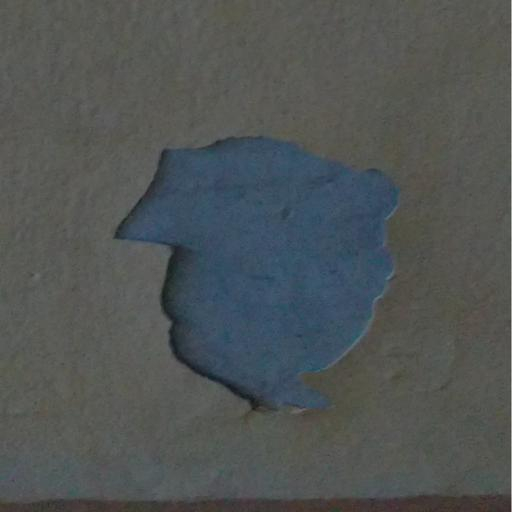peeling: (104, 102, 410, 439)
